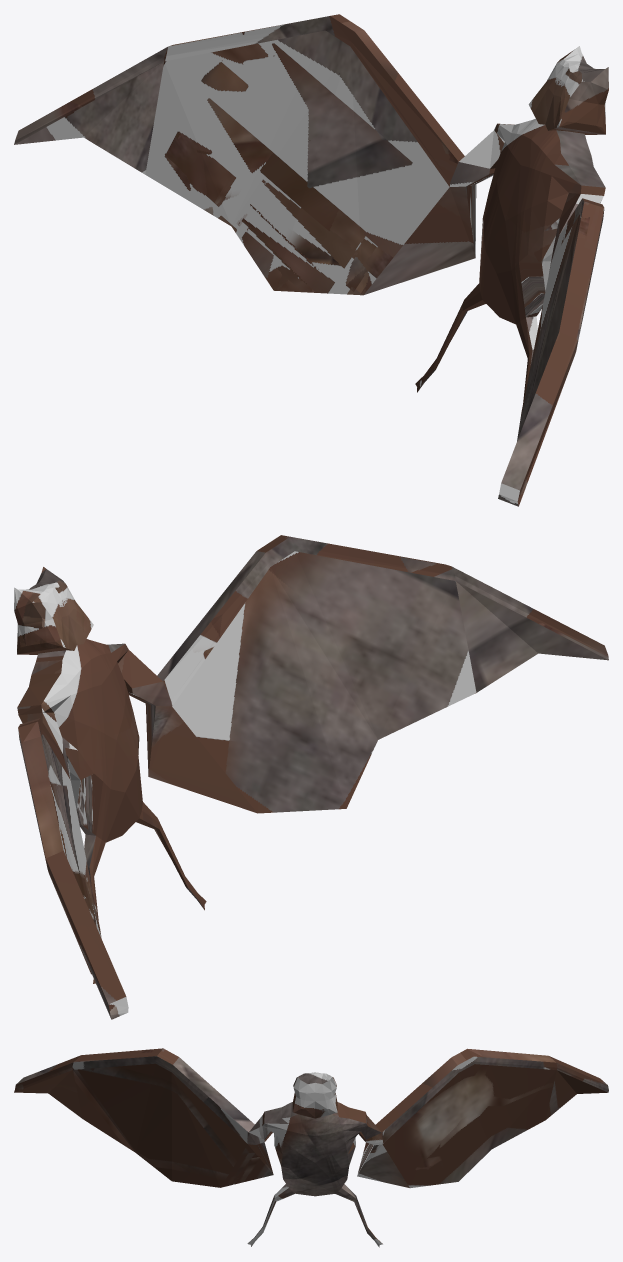
The model's file is Enemigo18.obj.
3 views of the same model, one above another, from view 1: azimuth 30°, elevation 25°; view 2: azimuth 150°, elevation 25°; view 3: azimuth 270°, elevation 25° (orthographic). The views are drawn at different scales.
Visible parts, largest first — view 1: Plano; view 2: Plano; view 3: Plano.
Boxes of the visible parts, x1,y1,x2,y2 form: Plano: [14, 14, 608, 506]; Plano: [14, 535, 608, 1019]; Plano: [14, 1048, 608, 1247].
Size of the model in its own units: 0.736 by 0.7116 by 1.86.
Materials: 1 (1 with a texture image).
